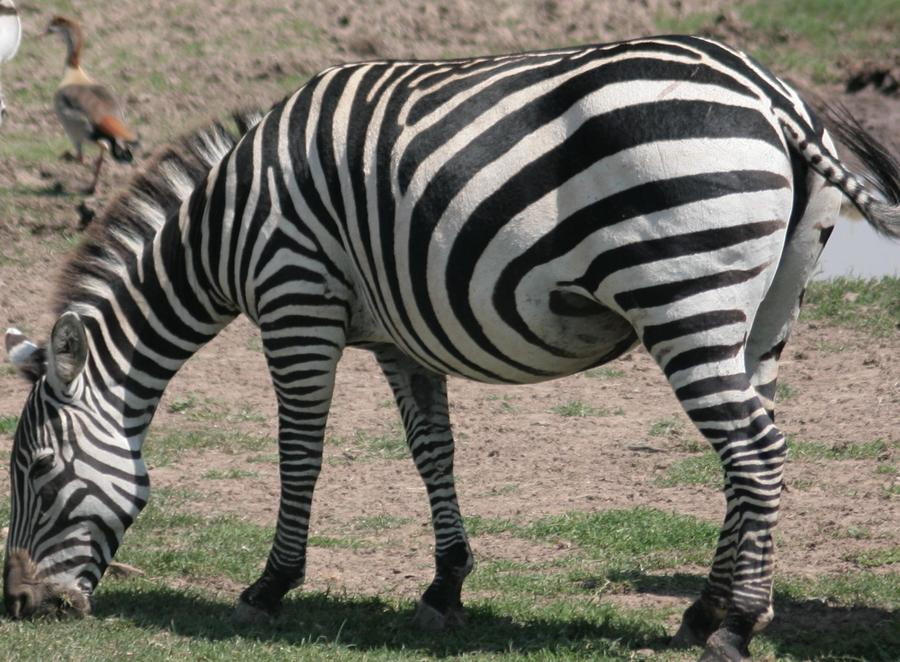zebra_plains: (210, 58, 803, 395)
